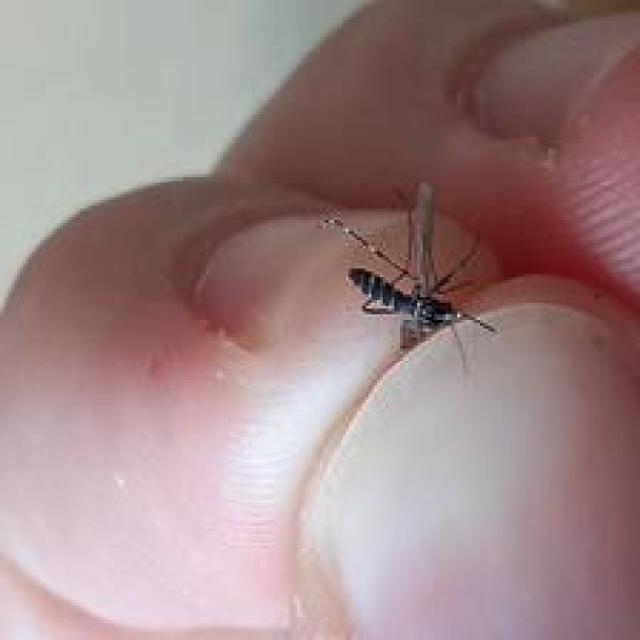Aedes albopictus: (317, 180, 500, 374)
